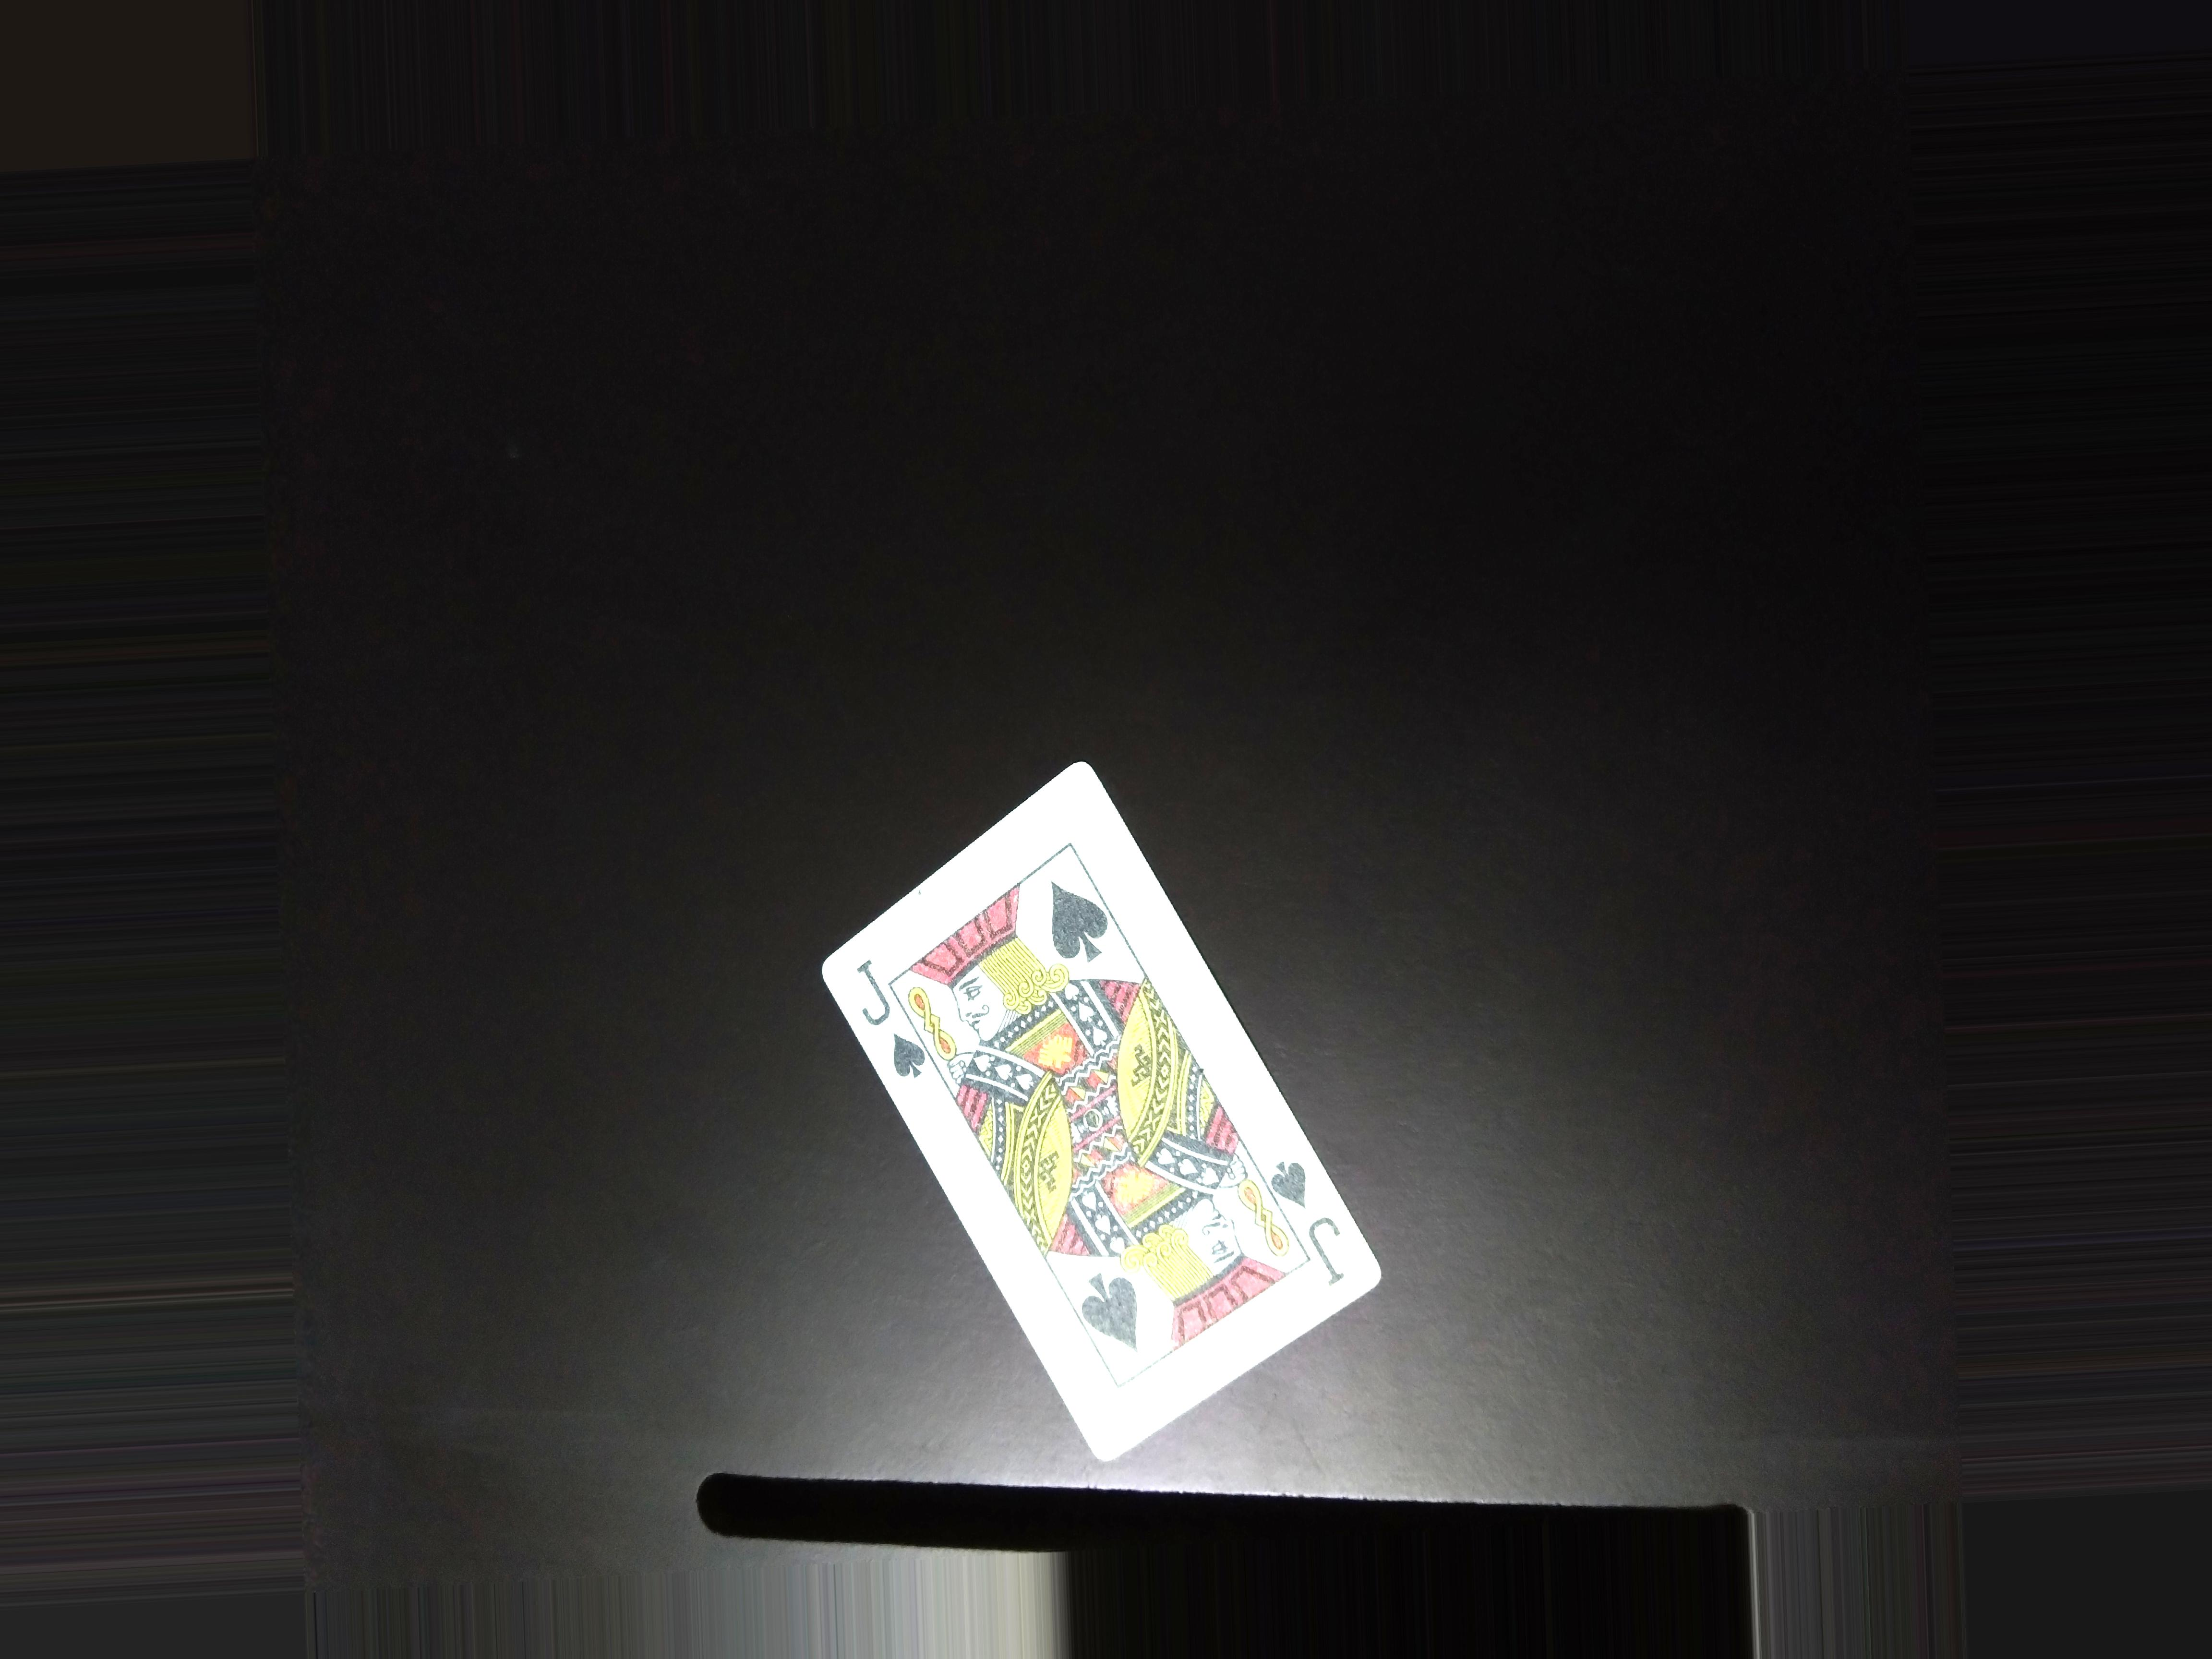JS: (855, 955, 923, 1094)
